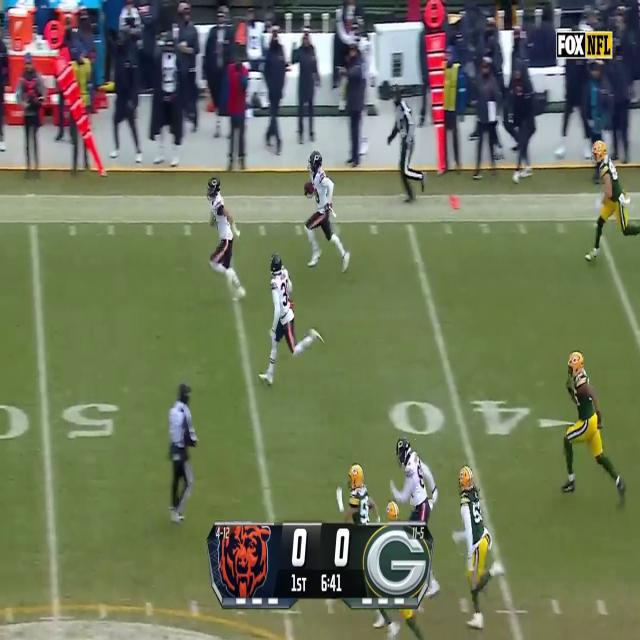Player: (456, 467, 506, 629), (562, 348, 610, 502), (586, 138, 633, 268), (300, 148, 338, 273), (262, 253, 297, 385), (390, 438, 444, 522), (207, 179, 241, 299), (333, 463, 384, 522)
Referee: (166, 379, 198, 530), (386, 84, 422, 209)
